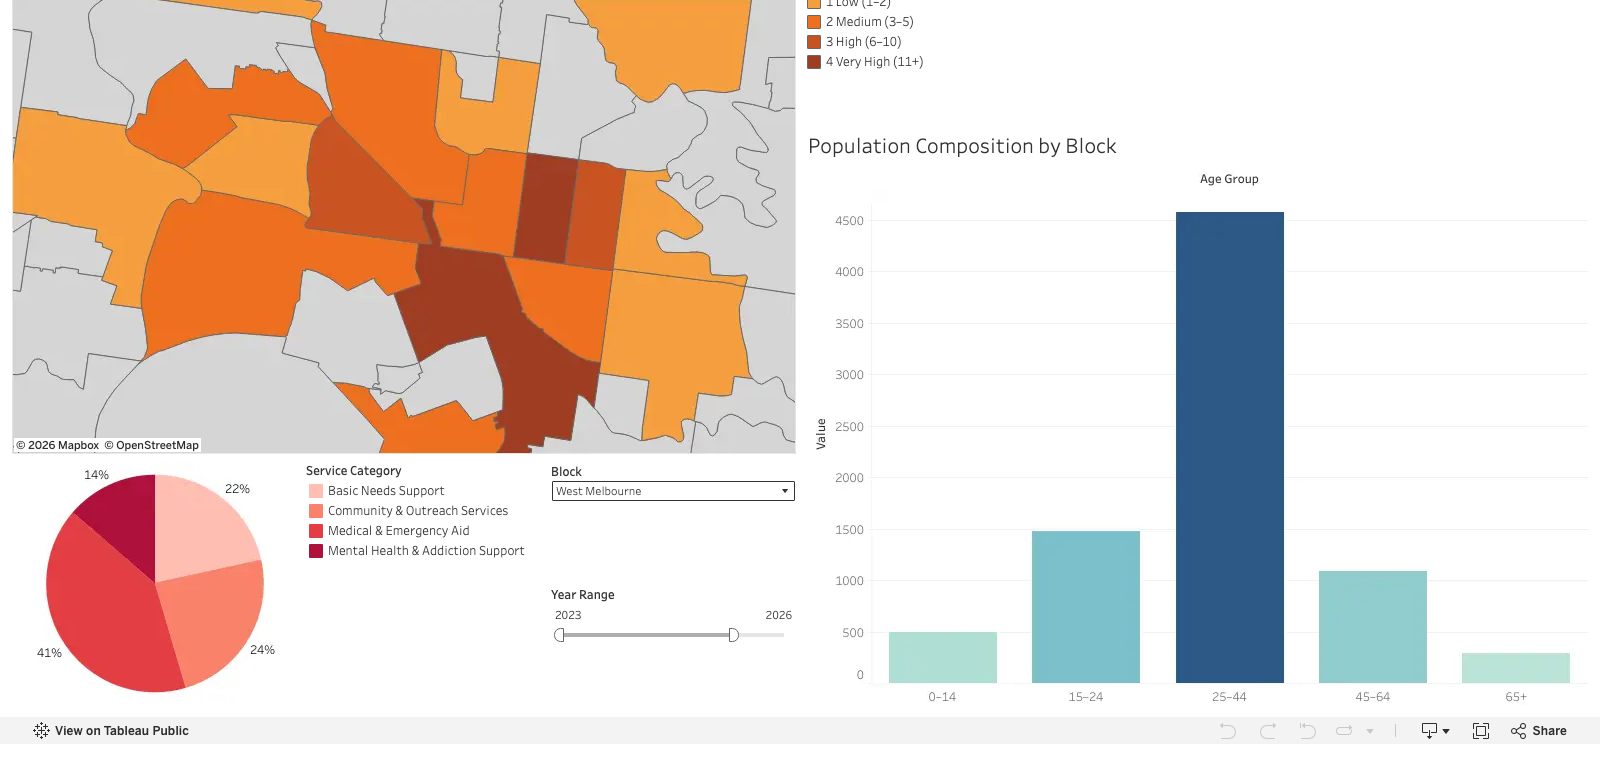

The page's visual inventory and layout, read from the dashboard file:
{"tool":"tableau","page":{"name":"Dashboard 1","canvas":[1000,1000],"units":"permille","ordinal":0},"visuals":[{"type":"worksheet","title":"Sheet 1","mark":"Shape","rows":["Latitude"],"cols":["Longitude"],"box":[6.4,9.7,430.1,980.7]},{"type":"worksheet","title":"Sheet 2","mark":"Automatic","box":[436.4,9.7,430.1,980.7]},{"type":"filter","title":"Sheet 1","param":"[federated.1p10luu1tvbg3x1b6opi70htf1un].[none:Service Category (6 Groups):nk]","box":[866.6,9.7,127.1,176.3]},{"type":"legend","title":"Sheet 1","param":"[federated.1p10luu1tvbg3x1b6opi70htf1un].[none:Service Category (6 Groups):nk]","box":[258.9,67.6,223.2,147.3]},{"type":"legend","title":"Sheet 2","param":"[federated.0s3aj7b0u9wuur1eynxma0wg33zl].[none:Calculation_701013497572769802:qk","box":[718.8,72.5,140.6,94.2]},{"type":"parameter","param":"[Parameters].[index of economic resource Parameter]","box":[866.6,186,127.1,62.8]}]}

Visuals, with their boxes on the dashboard's canvas, which has no fixed pixel size, in thousandths of its width and height (x1, y1, x2, y2). These are canvas units, not pixel positions in the 1600x772 screenshot, which may show the page scaled, cropped or inside an application window:
"Sheet 1" worksheet (Shape marks): 6,10,436,990
"Sheet 2" worksheet: 436,10,866,990
"Sheet 1" filter: 867,10,994,186
"Sheet 1" legend: 259,68,482,215
"Sheet 2" legend: 719,72,859,167
parameter: 867,186,994,249
